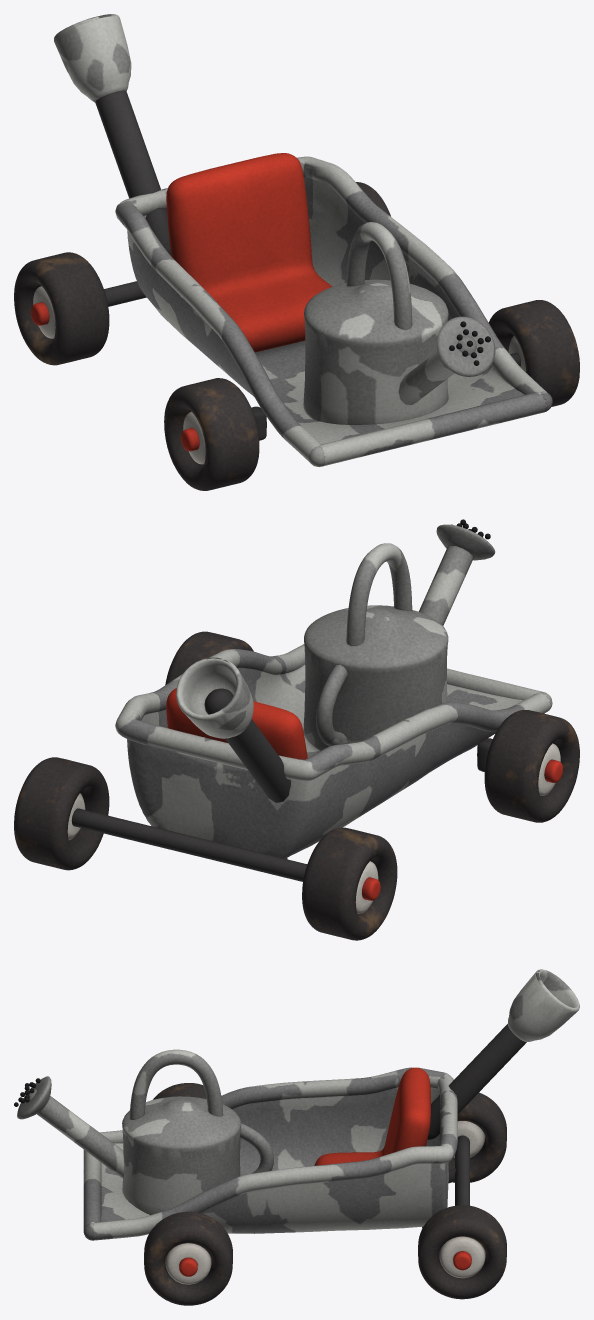
Rendered from kart.glb.
3 renders of one model, top to bottom at view 1: azimuth 30°, elevation 25°; view 2: azimuth 150°, elevation 25°; view 3: azimuth 270°, elevation 25°, orthographic. The views are drawn at different scales.
Visible parts, largest first — view 1: body, wheel_RR, wheel_FR, wheel_FL, steer_handle; view 2: body, wheel_RR, wheel_FR, wheel_RL, steer_handle, wheel_FL; view 3: body, wheel_RL, wheel_FL, wheel_RR, steer_handle, wheel_FR.
Part boxes in pixels (x1,y1,x2,y2): body: (54, 14, 552, 466); wheel_RR: (14, 252, 109, 365); wheel_FR: (164, 378, 259, 490); wheel_FL: (488, 300, 579, 406); steer_handle: (346, 222, 412, 329); body: (71, 519, 552, 881); wheel_RR: (302, 827, 397, 940); wheel_FR: (484, 710, 579, 822); wheel_RL: (14, 757, 109, 870); steer_handle: (346, 543, 412, 645); wheel_FL: (165, 631, 253, 684); body: (14, 969, 579, 1240); wheel_RL: (418, 1205, 506, 1299); wheel_FL: (144, 1211, 232, 1305); wheel_RR: (448, 1092, 506, 1182); steer_handle: (129, 1049, 223, 1119); wheel_FR: (153, 1083, 206, 1099).
Bounding box in the file's own units: 1.04 × 0.7632 × 1.65.
Materials: 1 (1 with a texture image).
